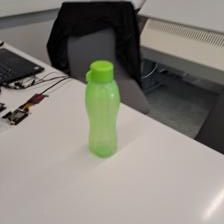bottle: (81, 57, 122, 158)
